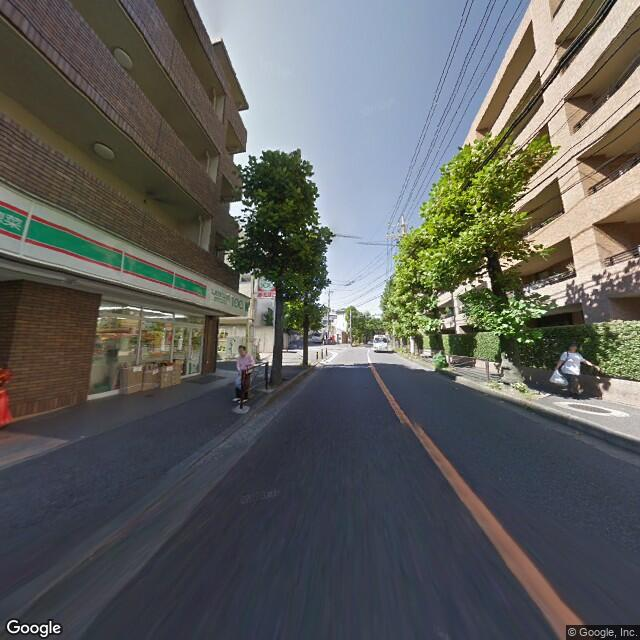lawson: (2, 186, 249, 323)
